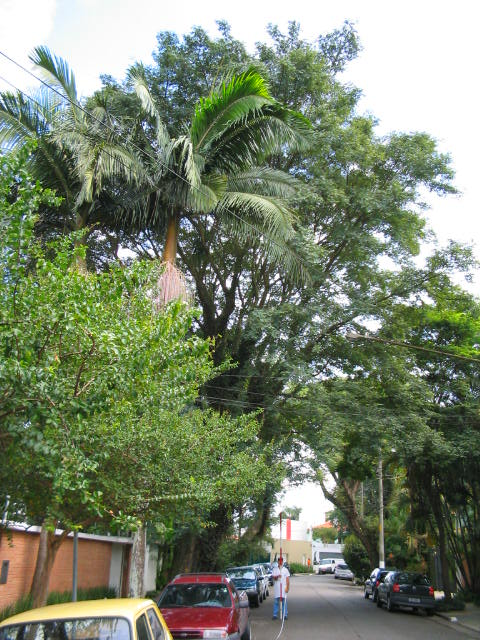crown: (2, 133, 264, 527)
stem: (22, 531, 65, 640)
stick: (276, 512, 286, 620)
tree: (2, 132, 264, 640)
